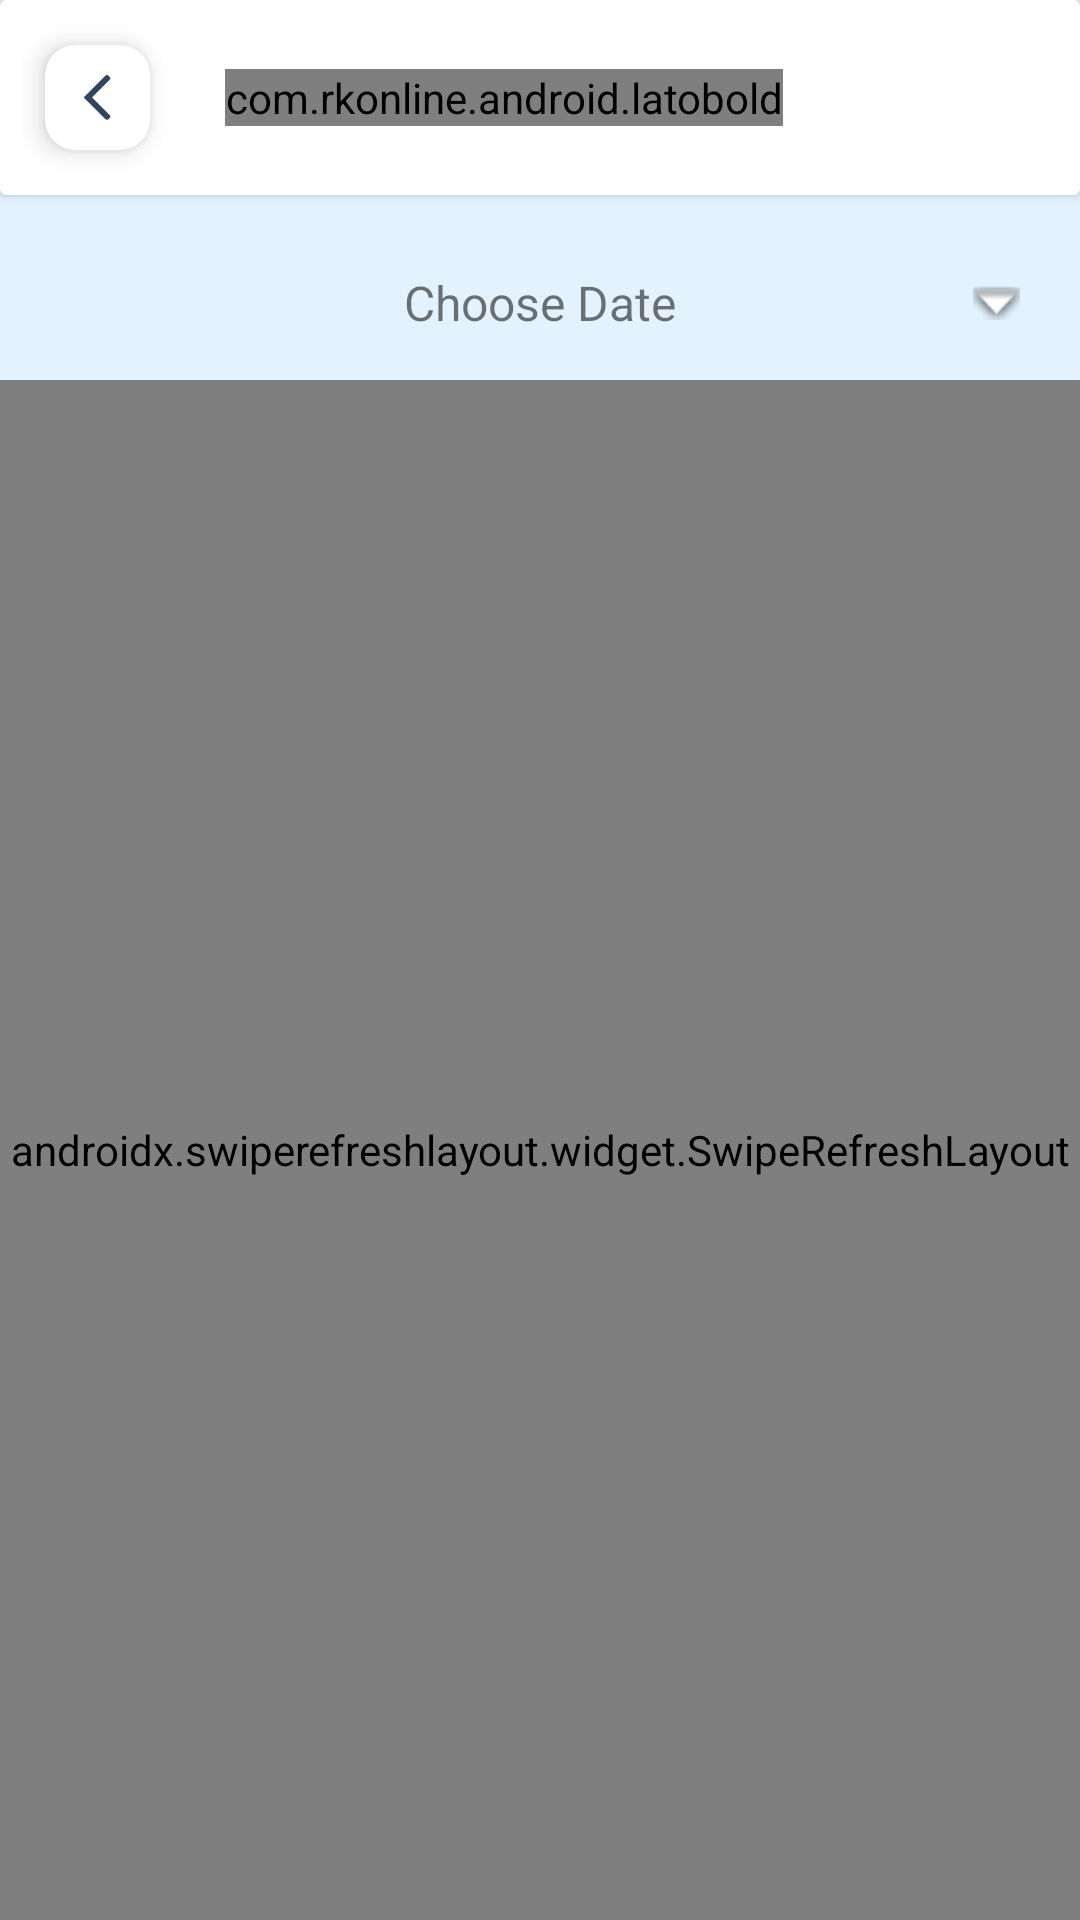

Where icons sit on this 1080×1920 app screen, as region(x1, y1, x2, y2):
back: region(84, 75, 111, 120)
